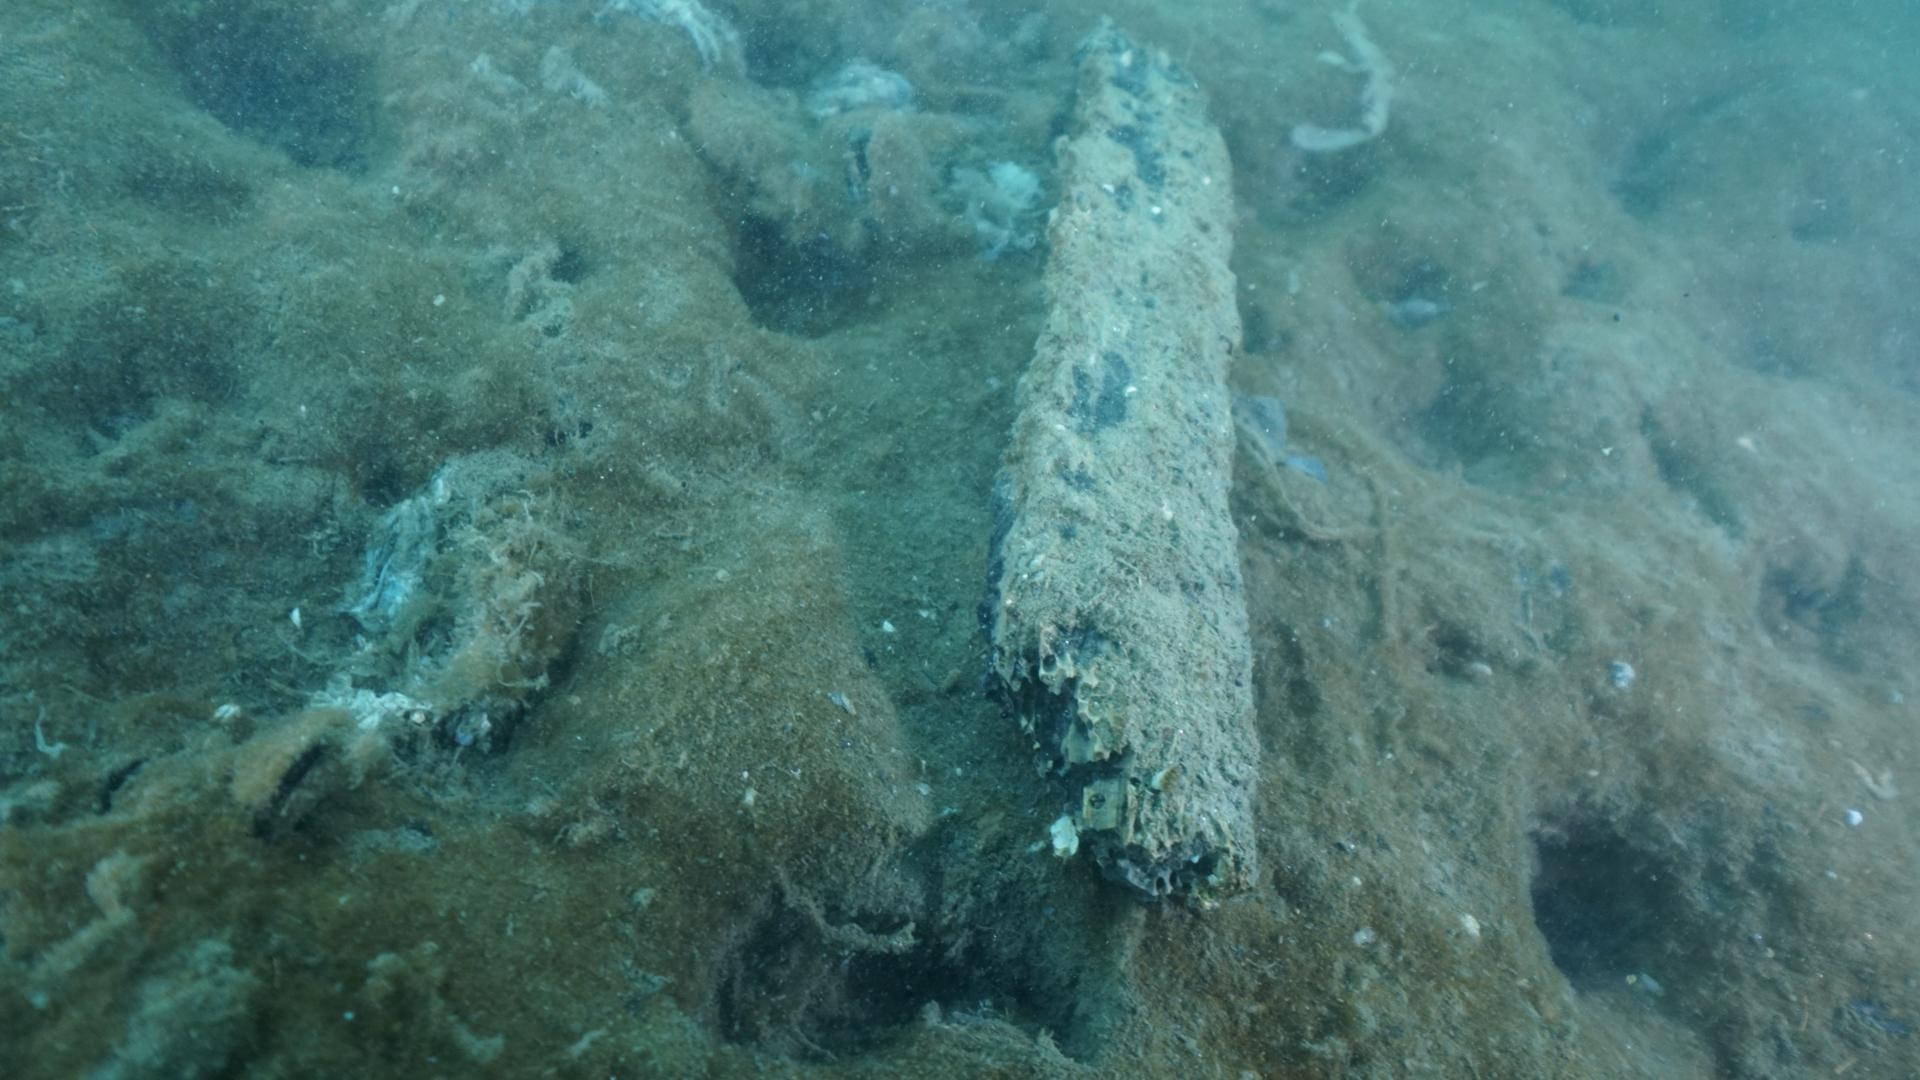wood: (967, 15, 1273, 920)
